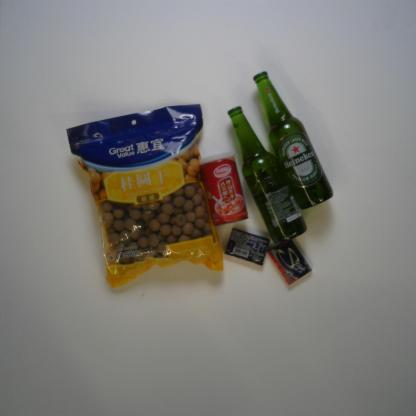Alcohol: (252, 70, 335, 211), (227, 105, 308, 245)
Canned Food: (199, 151, 249, 227)
Dried Food: (66, 102, 225, 288)
Gum: (267, 239, 313, 286), (224, 228, 269, 266)
